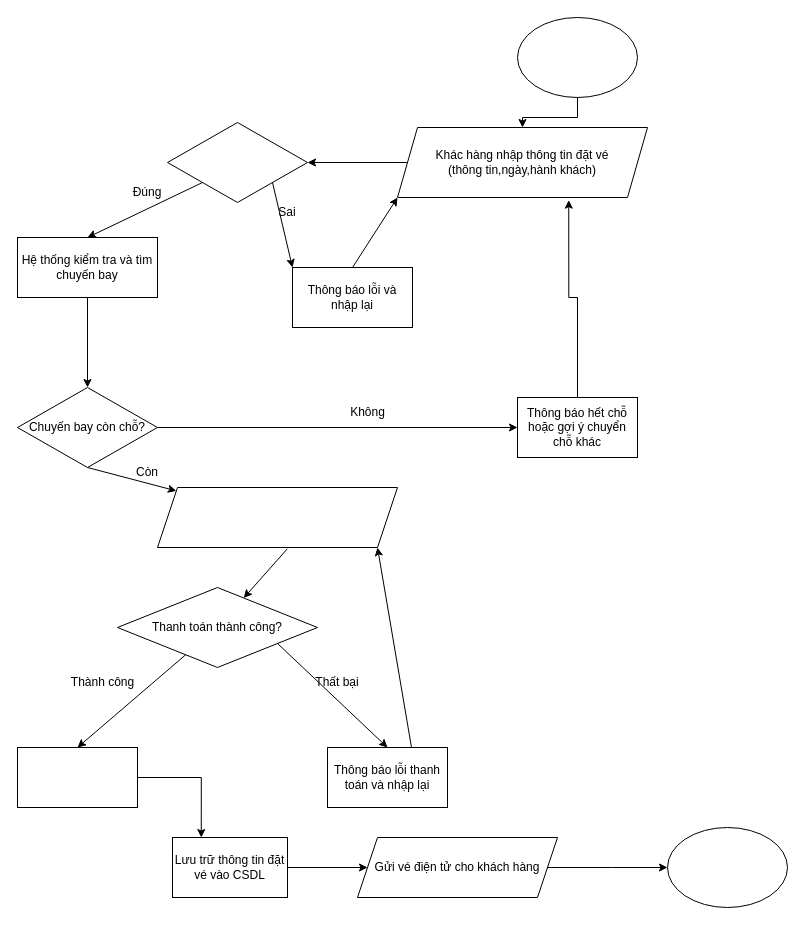
Image size: 805x925. Some labels were removed from this diagram. Each missing label, with the centre of its shape:
"Bắt đầu" belongs at point 577,57.
"Khách hàng nhập thông tin thanh toán" belongs at point 277,517.
"Kết thúc" belongs at point 727,867.
"Thông tin hợp lệ" belongs at point 237,162.
"Xác nhận và phát hành vé điện tử" belongs at point 77,777.
